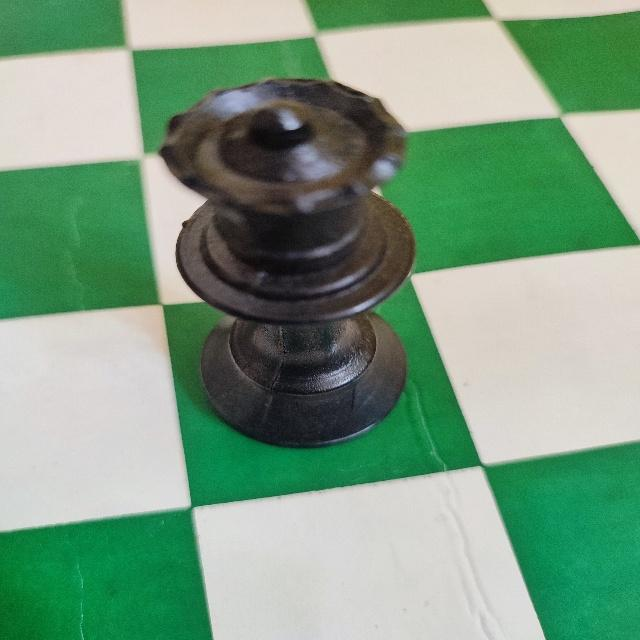Queen: (150, 64, 422, 453)
